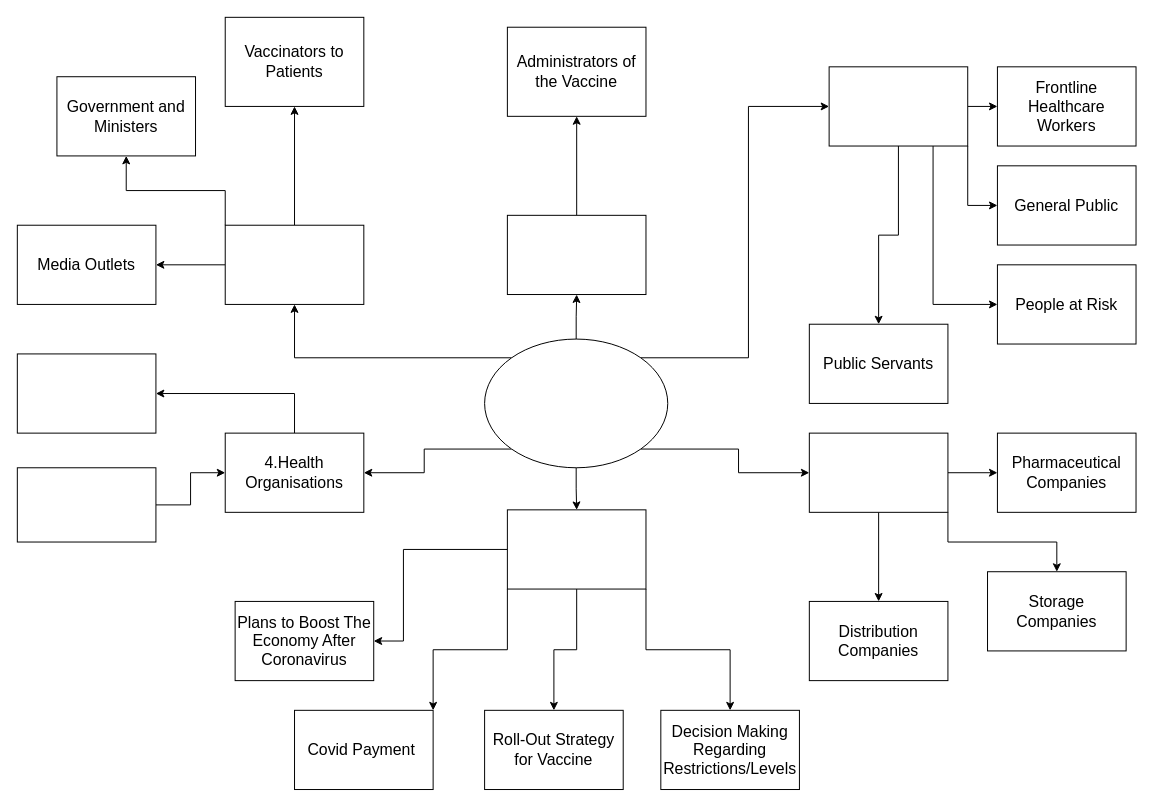
The diagram is 1153 pixels wide and 807 high, and some of its shapes have lost their labels. The shapes that lost their labels are listed below. From the top down, each one's centre as x and y in pixels, then its label:
At pixel 898 106: "1.Citizens".
At pixel 294 264: "5.Communications".
At pixel 576 254: "6.Vaccination Operations".
At pixel 86 393: "HSE".
At pixel 576 403: "Vaccine Roll-Out".
At pixel 878 472: "2.Suppliers".
At pixel 86 504: "NEPHET".
At pixel 576 549: "3.Government".
